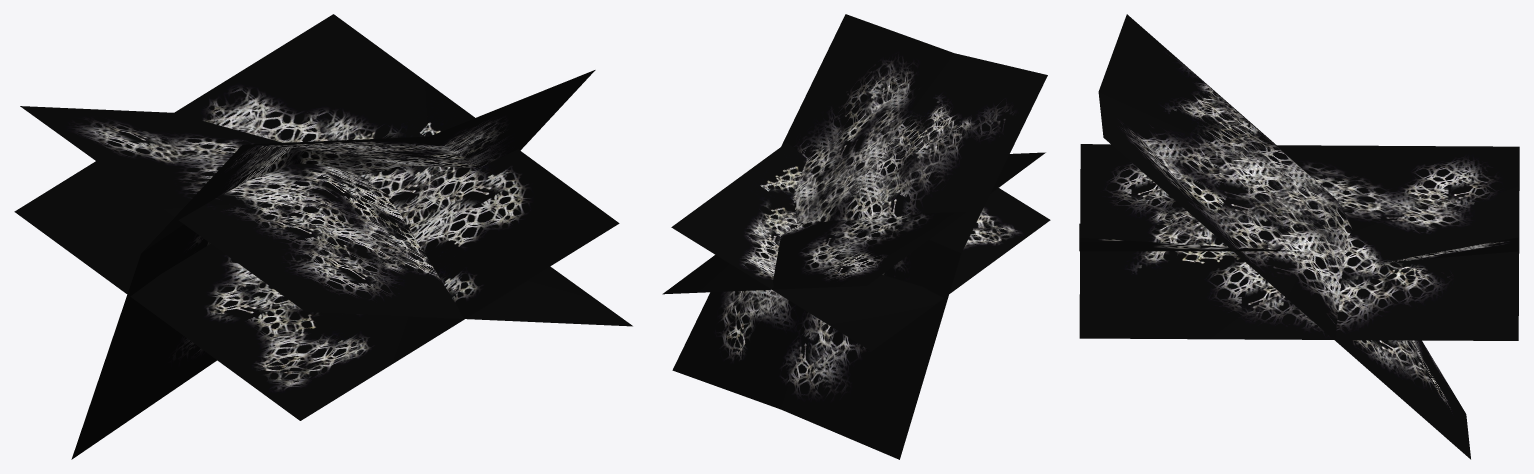
The model's file is FungisAtlas2.fbx.
3 views of the same model, side by side, from view 1: azimuth 30°, elevation 25°; view 2: azimuth 150°, elevation 25°; view 3: azimuth 270°, elevation 25° (orthographic). The views are drawn at different scales.
Visible parts, largest first — view 1: Plane.008; view 2: Plane.008; view 3: Plane.008.
Boxes of the visible parts, <box> form: Plane.008: <box>14,14,632,459</box>; Plane.008: <box>662,14,1050,459</box>; Plane.008: <box>1079,14,1519,459</box>.
Size of the model in its own units: 111 by 134 by 147.
